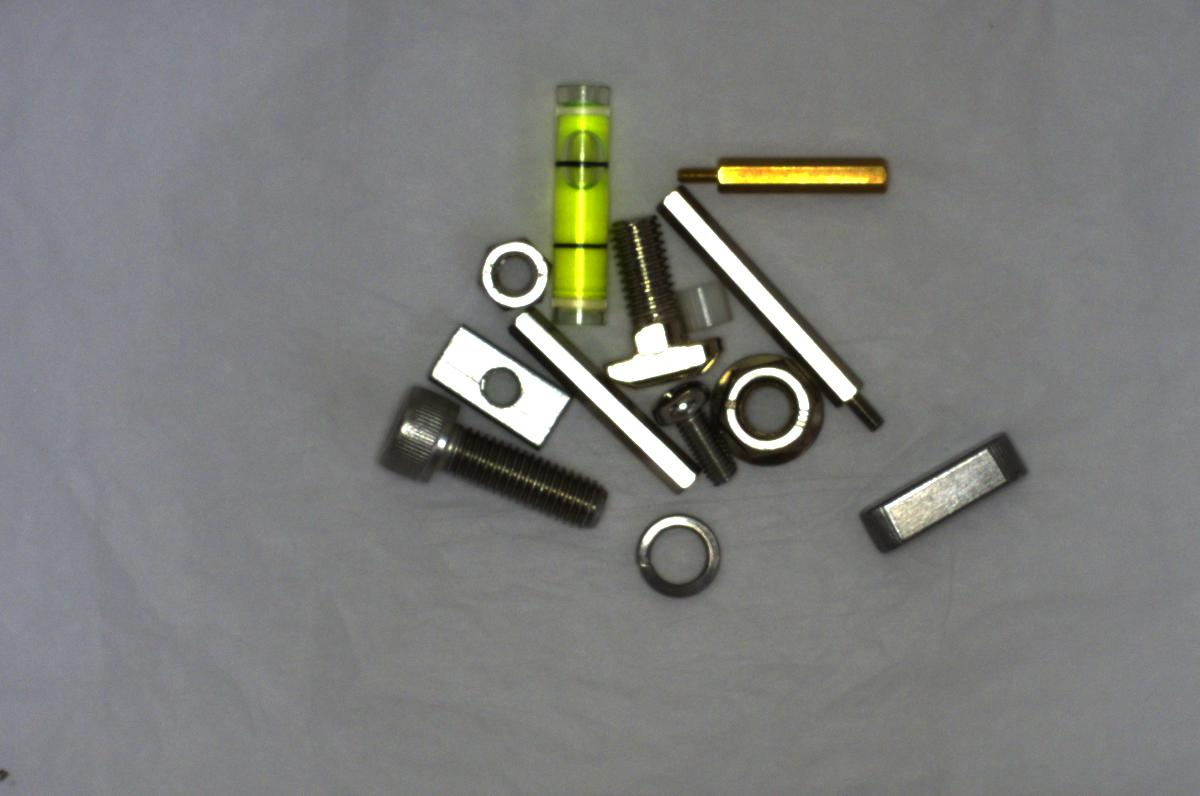Double hexagonal column: (498, 309, 707, 500)
Flange nut: (707, 342, 829, 474)
Hexagon nut: (469, 235, 548, 319)
Hexagon pillar: (653, 145, 912, 198)
Hexagon screw: (362, 376, 616, 536)
Hexagonal steel column: (653, 187, 891, 442)
Horizontal bubble: (533, 68, 628, 332)
Keybar: (847, 417, 1046, 562)
Plastic cushion pillar: (671, 272, 734, 336)
Rectangular nut: (425, 322, 573, 445)
Round head screw: (657, 372, 741, 490)
Spring washer: (628, 509, 726, 606)
T-shaped screw: (593, 218, 711, 382)
